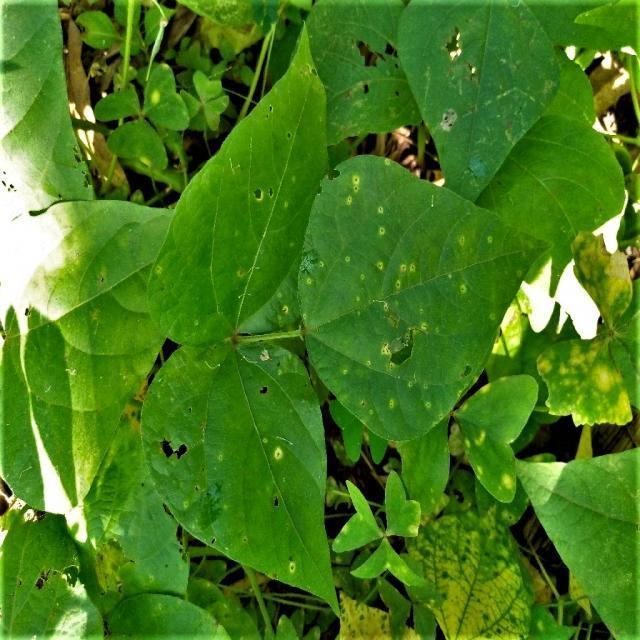hawar: (332, 182, 478, 313), (346, 29, 403, 110), (371, 324, 425, 382), (441, 28, 482, 93), (158, 418, 195, 475), (250, 174, 276, 220)
